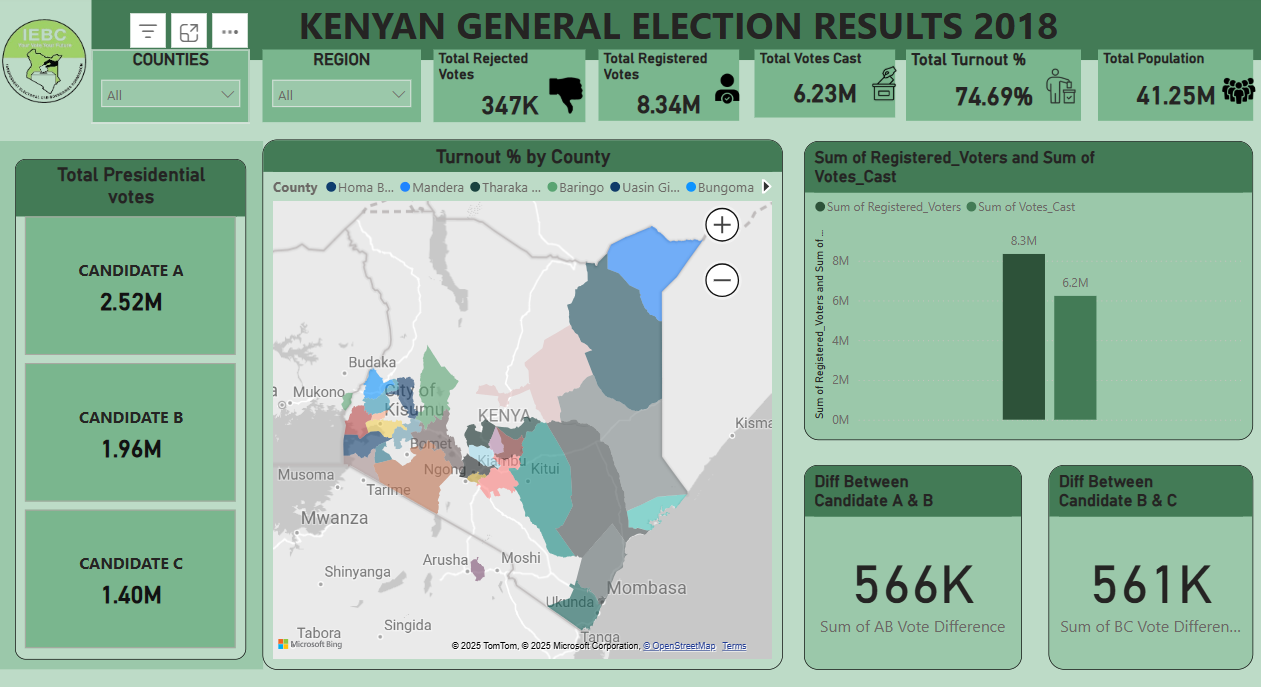

Layout of this report page (visuals, bound fields, positions):
{"tool":"powerbi","page":{"name":"General Summary","canvas":[1280,720],"ordinal":0},"visuals":[{"type":"shape","box":[0,0,1280,708.3],"z":0},{"type":"textbox","box":[0,148.3,268.3,533.3],"z":1000},{"type":"image","box":[0,0,95,135],"z":2000},{"type":"textbox","box":[95,0,1185,66.7],"z":3000},{"type":"slicer","title":"COUNTIES","fields":{"Values":["Voting_Data.County"]},"box":[95,56.7,160,73.3],"z":4000},{"type":"slicer","title":"REGION","fields":{"Values":["Voting_Data.Region"]},"box":[268.3,56.7,160,73.3],"z":5000},{"type":"card","title":"Total Population","fields":{"Values":["Sum(County_Info.Population)"]},"box":[1111.7,56.7,156.7,71.7],"z":6000},{"type":"card","title":"Total Rejected Votes","fields":{"Values":["Sum(Voting_Data.Rejected_Votes)"]},"box":[440,56.7,153.3,73.3],"z":7000},{"type":"card","title":"Total Registered Votes","fields":{"Values":["Sum(Voting_Data.Registered_Voters)"]},"box":[606.7,56.7,141.7,71.7],"z":8000},{"type":"card","title":"Total Turnout %","fields":{"Values":["Voting_Data.Turnout %"]},"box":[918.3,56.7,176.7,71.7],"z":9000},{"type":"card","title":"Total Votes Cast","fields":{"Values":["Sum(Voting_Data.Votes_Cast)"]},"box":[765,56.7,141.7,68.3],"z":10000},{"type":"image","box":[871.7,65,46.7,50],"z":11000},{"type":"image","box":[1226.7,75,53.3,43.3],"z":12000},{"type":"image","box":[708.3,73.3,56.7,45],"z":13000},{"type":"image","box":[541.7,78.3,65,46.7],"z":14000},{"type":"image","box":[1035,56.7,76.7,78.3],"z":15000},{"type":"cardVisual","title":"Total Presidential votes","fields":{"Data":["Sum(Voting_Data.Candidate_A)","Sum(Voting_Data.Candidate_B)","Sum(Voting_Data.Candidate_C)"]},"box":[18.3,166.7,233.3,505],"z":16000},{"type":"filledMap","title":"Turnout % by County","fields":{"Category":["Voting_Data.County"],"Series":["Voting_Data.County"]},"box":[268.3,146.7,525,535],"z":17000},{"type":"clusteredColumnChart","fields":{"Y":["Sum(Voting_Data.Registered_Voters)","Sum(Voting_Data.Votes_Cast)"]},"box":[815,148.3,453.3,301.7],"z":18000},{"type":"card","title":"Diff Between Candidate A & B","fields":{"Values":["Sum(Voting_Data.AB Vote Difference)"]},"box":[815,475,220,206.7],"z":19000},{"type":"card","title":"Diff Between Candidate B & C","fields":{"Values":["Sum(Voting_Data.BC Vote Difference)"]},"box":[1061.7,475,206.7,206.7],"z":20000}]}

Visuals, with their boxes on the page's 1280x720 design canvas (x1, y1, x2, y2). These are canvas units, not pixel positions in the 1261x687 screenshot, which may show the page scaled, cropped or inside an application window:
shape: <box>0,0,1280,708</box>
textbox: <box>0,148,268,682</box>
image: <box>0,0,95,135</box>
textbox: <box>95,0,1280,67</box>
"COUNTIES" slicer: <box>95,57,255,130</box>
"REGION" slicer: <box>268,57,428,130</box>
"Total Population" card: <box>1112,57,1268,128</box>
"Total Rejected Votes" card: <box>440,57,593,130</box>
"Total Registered Votes" card: <box>607,57,748,128</box>
"Total Turnout %" card: <box>918,57,1095,128</box>
"Total Votes Cast" card: <box>765,57,907,125</box>
image: <box>872,65,918,115</box>
image: <box>1227,75,1280,118</box>
image: <box>708,73,765,118</box>
image: <box>542,78,607,125</box>
image: <box>1035,57,1112,135</box>
"Total Presidential votes" cardVisual: <box>18,167,252,672</box>
"Turnout % by County" filledMap: <box>268,147,793,682</box>
clusteredColumnChart - Sum(Voting_Data.Registered_Voters) x Sum(Voting_Data.Votes_Cast): <box>815,148,1268,450</box>
"Diff Between Candidate A & B" card: <box>815,475,1035,682</box>
"Diff Between Candidate B & C" card: <box>1062,475,1268,682</box>
